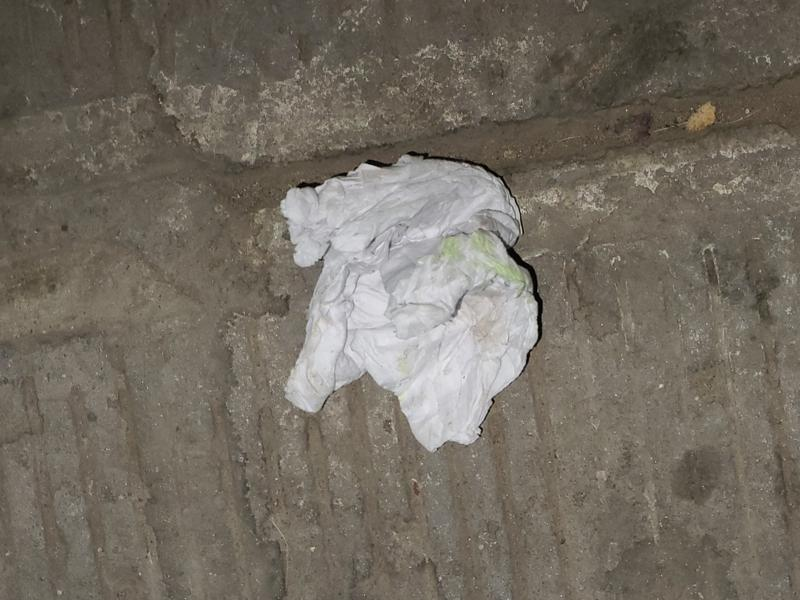papel: (279, 154, 543, 453)
